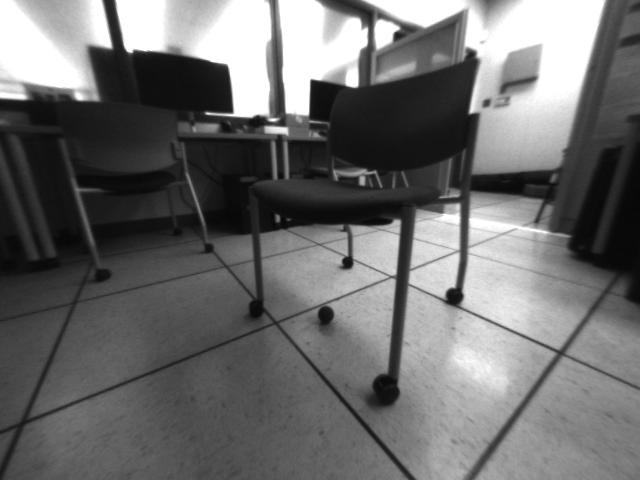dogtoy: (311, 301, 342, 330)
